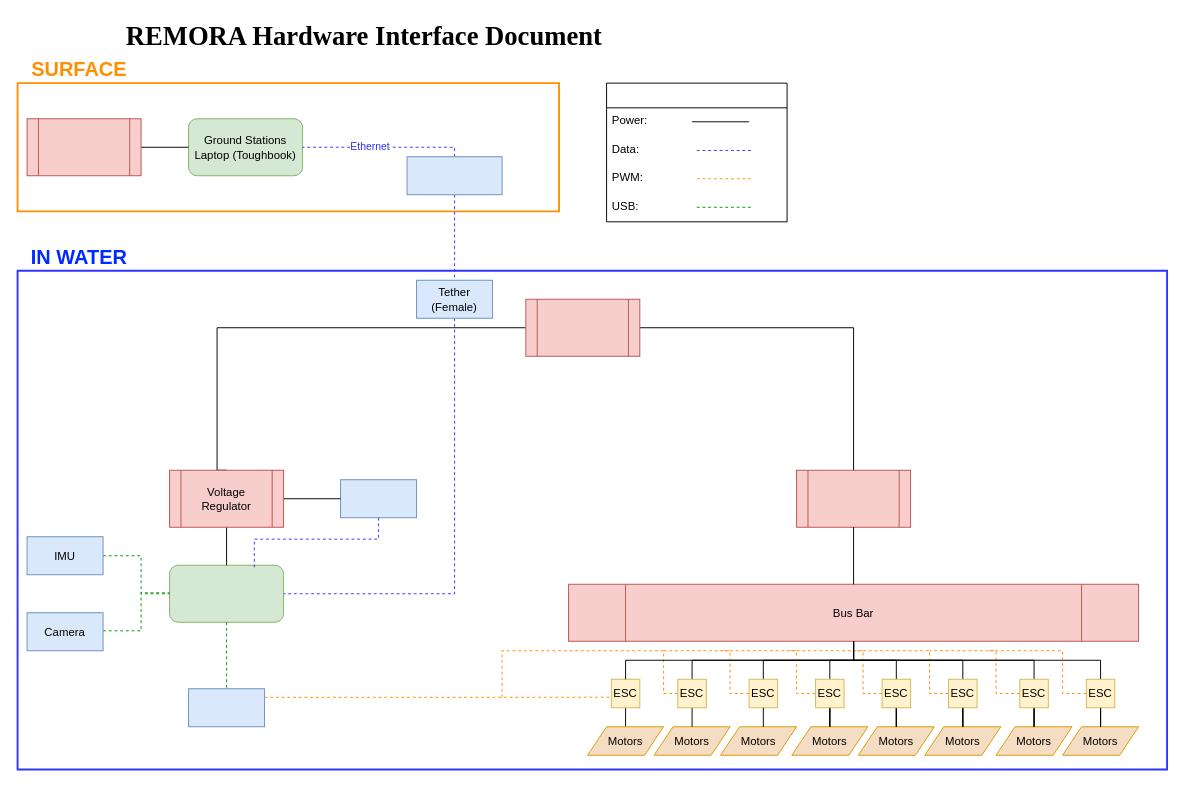
This 1184x787 diagram has some shape labels left out. Each missing label, with the box of its shape:
Battery: (525, 298, 640, 356)
DVL: (340, 479, 417, 518)
E-Stop: (796, 469, 911, 527)
External Power: (26, 118, 141, 176)
LattePanda: (169, 564, 284, 622)
Legend: (606, 82, 787, 222)
Pulolu Maestro: (188, 688, 265, 727)
Tether Connector and Spool: (406, 156, 502, 195)
